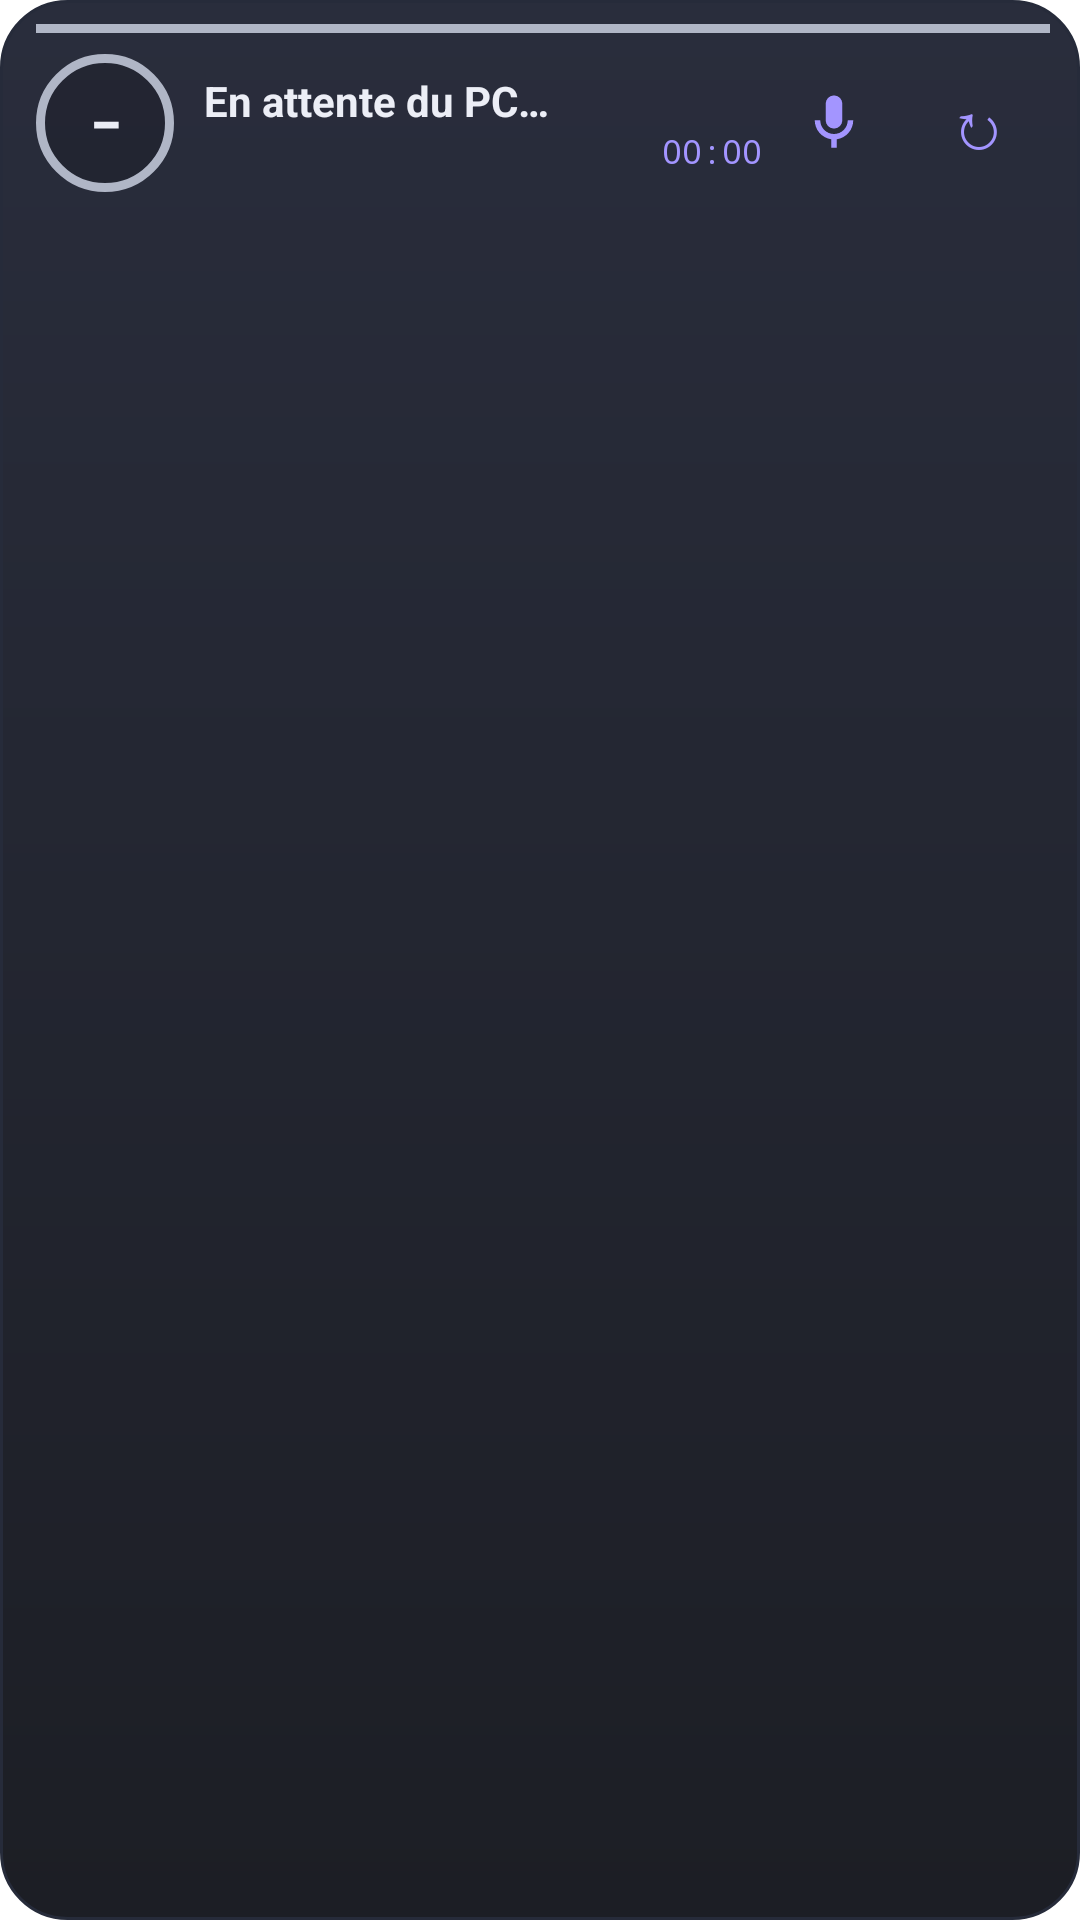

Icons on this 1080px×1920px Android screen, each with the point to tap as [x,y]:
Parler à Aura: [834,121]
